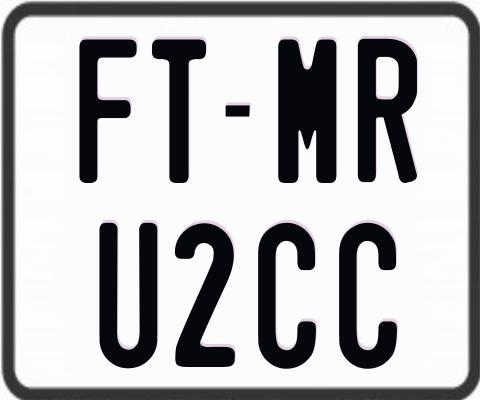2: (174, 223, 234, 367)
C: (255, 220, 319, 371), (338, 222, 399, 373)
F: (79, 36, 138, 180)
M: (277, 38, 340, 182)
R: (355, 39, 414, 189)
T: (151, 37, 206, 187)
U: (96, 223, 157, 373)
